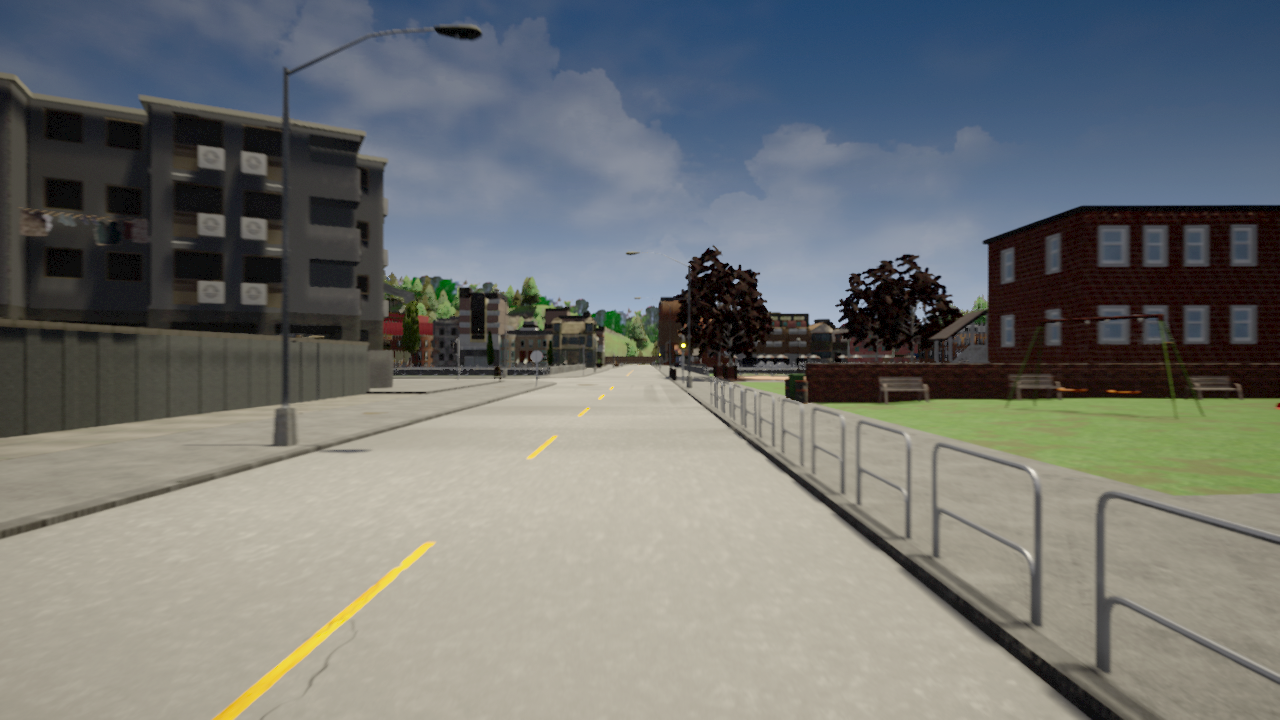yellow: (680, 338, 686, 353)
